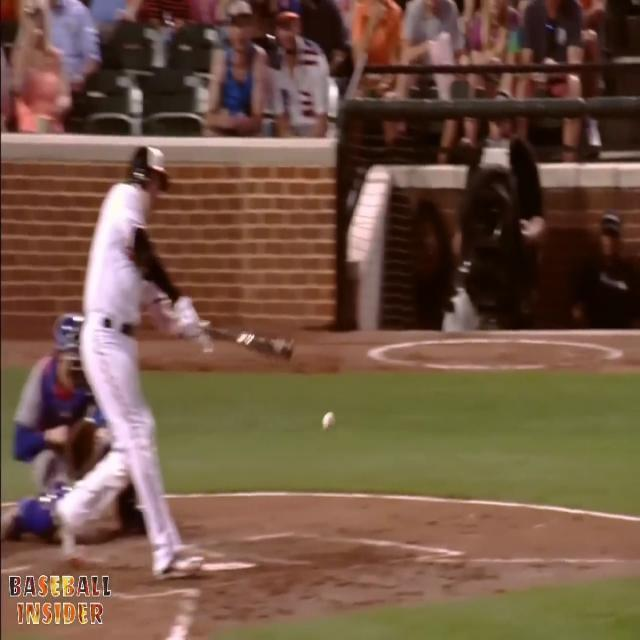ball: (320, 412, 340, 432)
